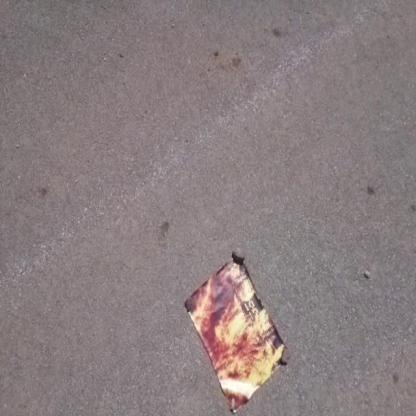fire-poster: (183, 250, 290, 415)
